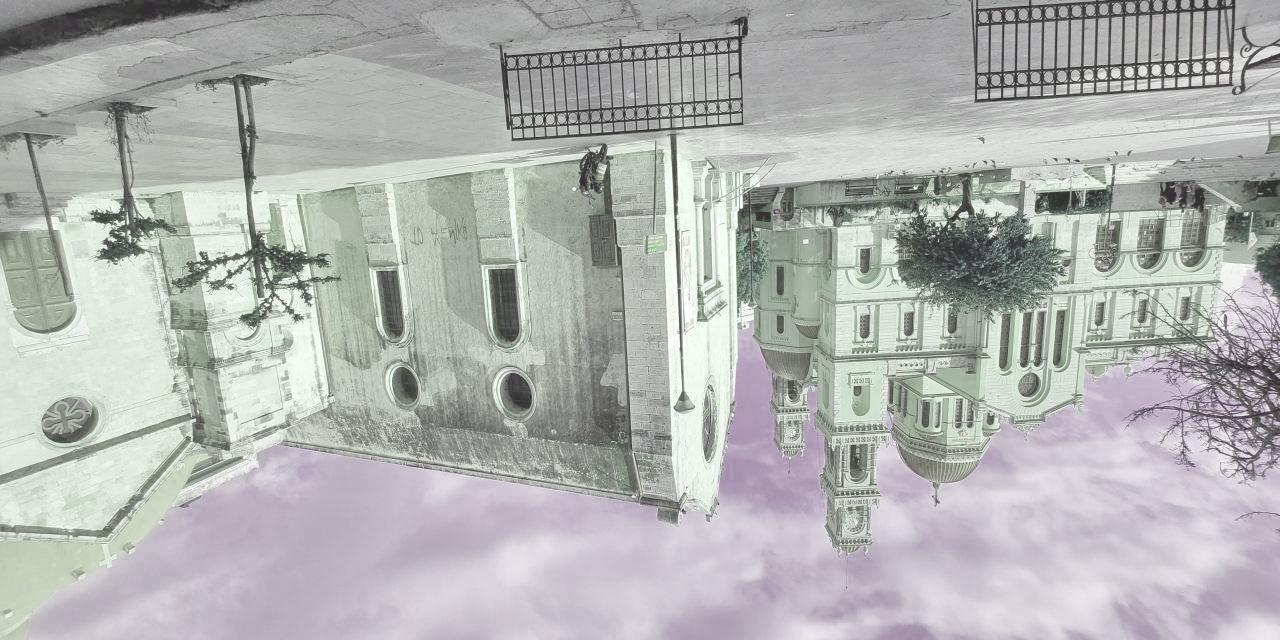Agia Aikaterini: (1, 159, 749, 635)
